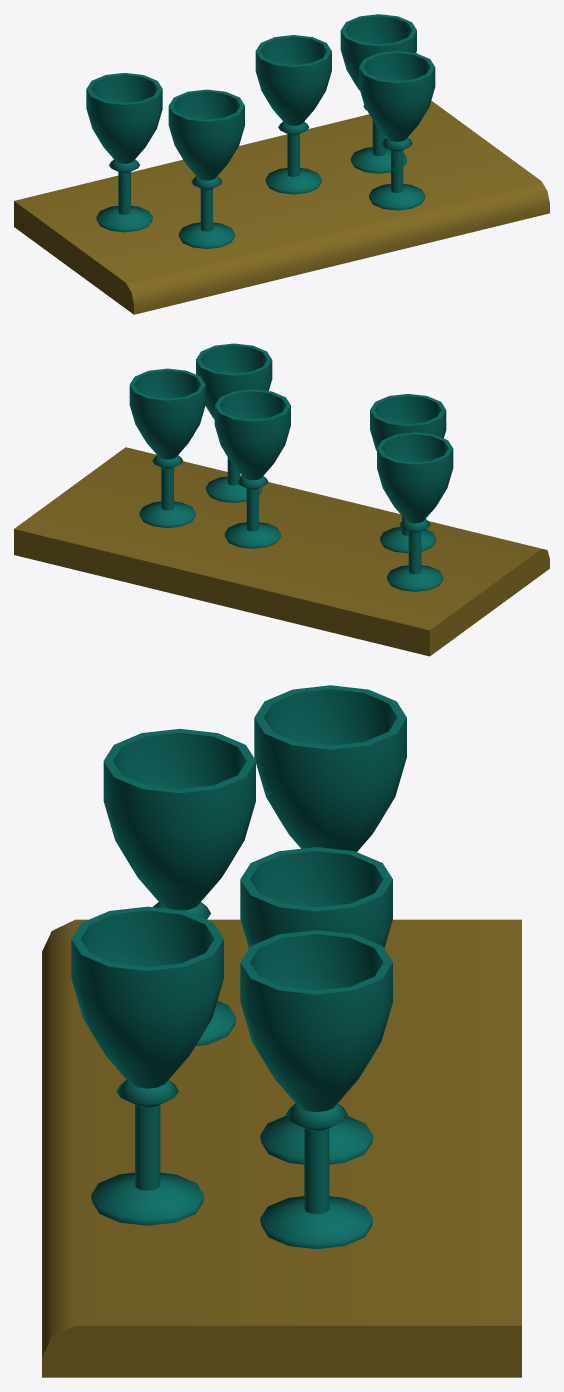
Rendered from DI_101_glasses_on_shelf.glb.
3 renders of one model, top to bottom at view 1: azimuth 30°, elevation 25°; view 2: azimuth 150°, elevation 25°; view 3: azimuth 270°, elevation 25°, orthographic. The views are drawn at different scales.
Parts seen in each view (by area): view 1: Shelf.001, Glass.011, Glass.009, Glass.007, Glass.010, Glass.008; view 2: Shelf.001, Glass.011, Glass.007, Glass.008, Glass.009, Glass.010; view 3: Shelf.001, Glass.009, Glass.008, Glass.010, Glass.011, Glass.007.
Boxes of the visible parts, <box> form: Shelf.001: <box>14,101,549,314</box>; Glass.011: <box>86,73,162,232</box>; Glass.009: <box>359,51,435,210</box>; Glass.007: <box>255,35,331,194</box>; Glass.010: <box>168,89,244,248</box>; Glass.008: <box>340,14,416,173</box>; Shelf.001: <box>14,447,549,656</box>; Glass.011: <box>377,432,453,591</box>; Glass.007: <box>214,389,290,548</box>; Glass.008: <box>129,368,205,527</box>; Glass.009: <box>196,343,272,502</box>; Glass.010: <box>370,394,446,553</box>; Shelf.001: <box>42,919,521,1377</box>; Glass.009: <box>71,906,223,1225</box>; Glass.008: <box>240,930,392,1249</box>; Glass.010: <box>103,729,255,1045</box>; Glass.011: <box>254,685,406,851</box>; Glass.007: <box>240,847,392,1164</box>.
Size of the model in its own units: 1.5 by 0.5436 by 0.75.
